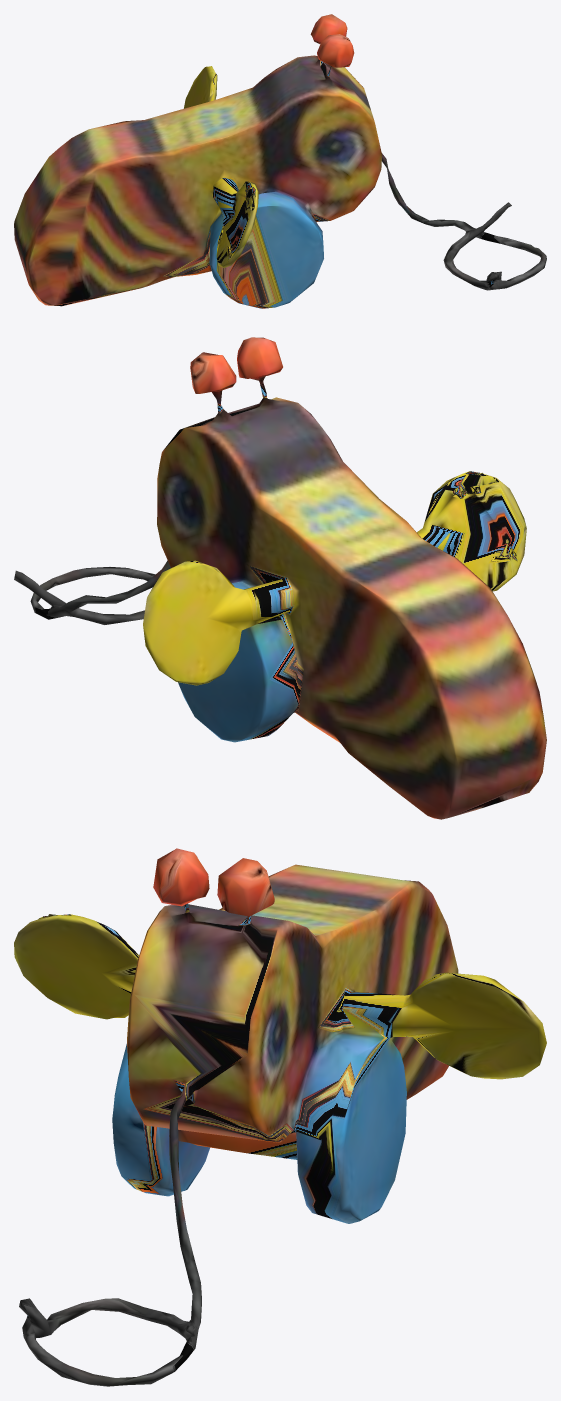
Rendered from gso_fisher_price_classic_toys_buzzy_bee.glb.
3 views of the same model, one above another, from view 1: azimuth 30°, elevation 25°; view 2: azimuth 150°, elevation 25°; view 3: azimuth 270°, elevation 25° (orthographic). The views are drawn at different scales.
Parts seen in each view (by area): view 1: z-up-to-y-up; view 2: z-up-to-y-up; view 3: z-up-to-y-up.
Part boxes in pixels (left/top/right/bottom): z-up-to-y-up: left=14, top=14, right=546, bottom=308; z-up-to-y-up: left=14, top=337, right=546, bottom=819; z-up-to-y-up: left=14, top=848, right=546, bottom=1386.
Size of the model in its own units: 0.2059 by 0.1108 by 0.1347.
Materials: 1 (1 with a texture image).
